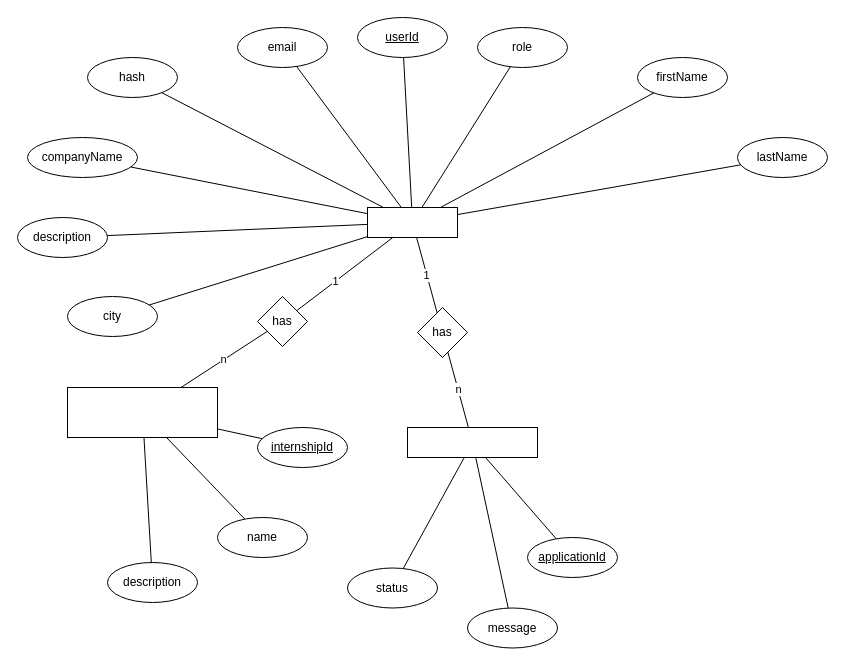
Image size: 845x666. Some labels were removed from this diagram. Here are the shapes that lost their labels. From the top down, the centre of each, then its label:
the point at 412,222: User
the point at 142,412: Internship
the point at 472,442: Application
